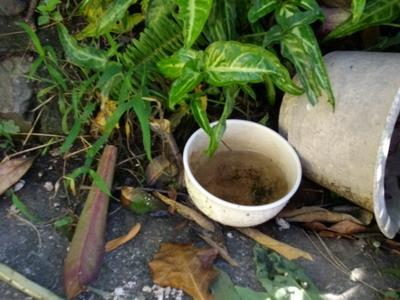bowl: (273, 44, 400, 245), (182, 118, 303, 228)
